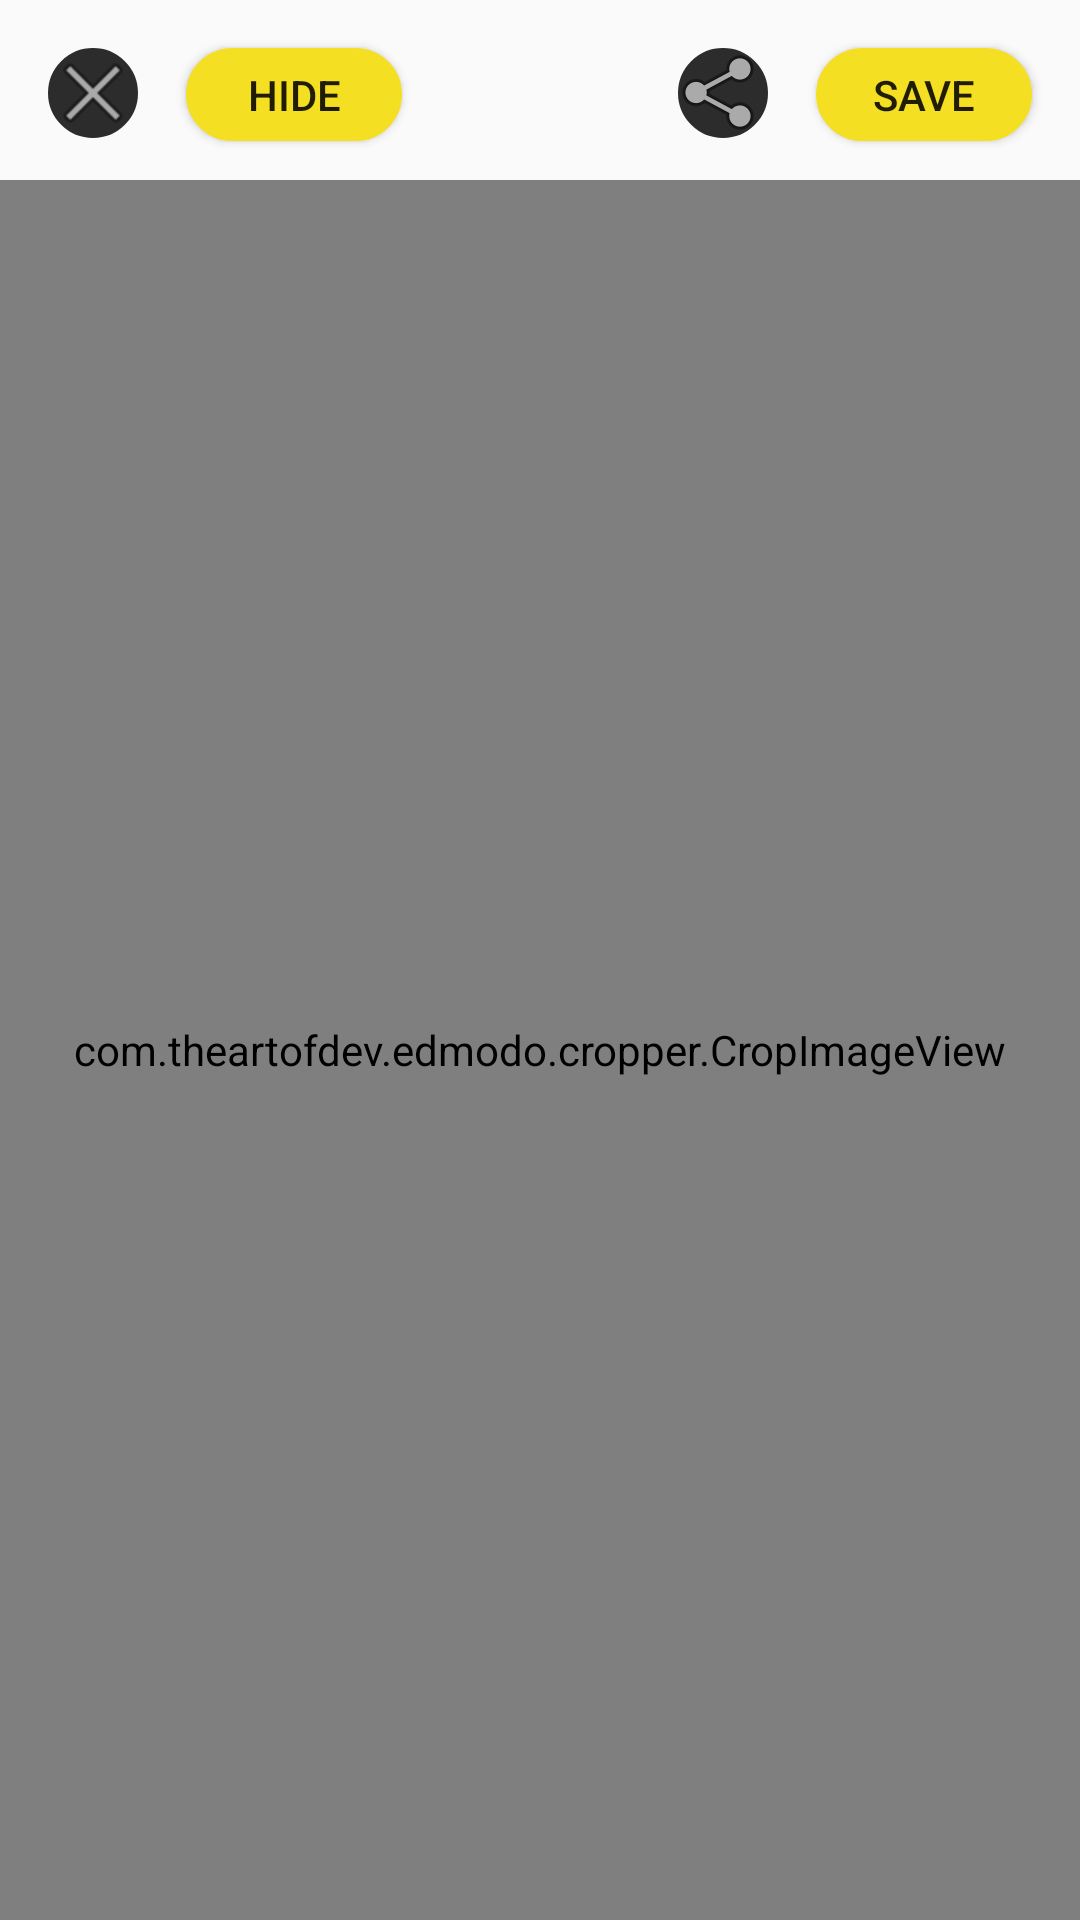

Icon bounding boxes for this 1080px x 1920px phone screenshot, format (x1, y1, x2, y2):
close clear cancel: (48, 48, 138, 138)
share: (678, 48, 768, 138)
